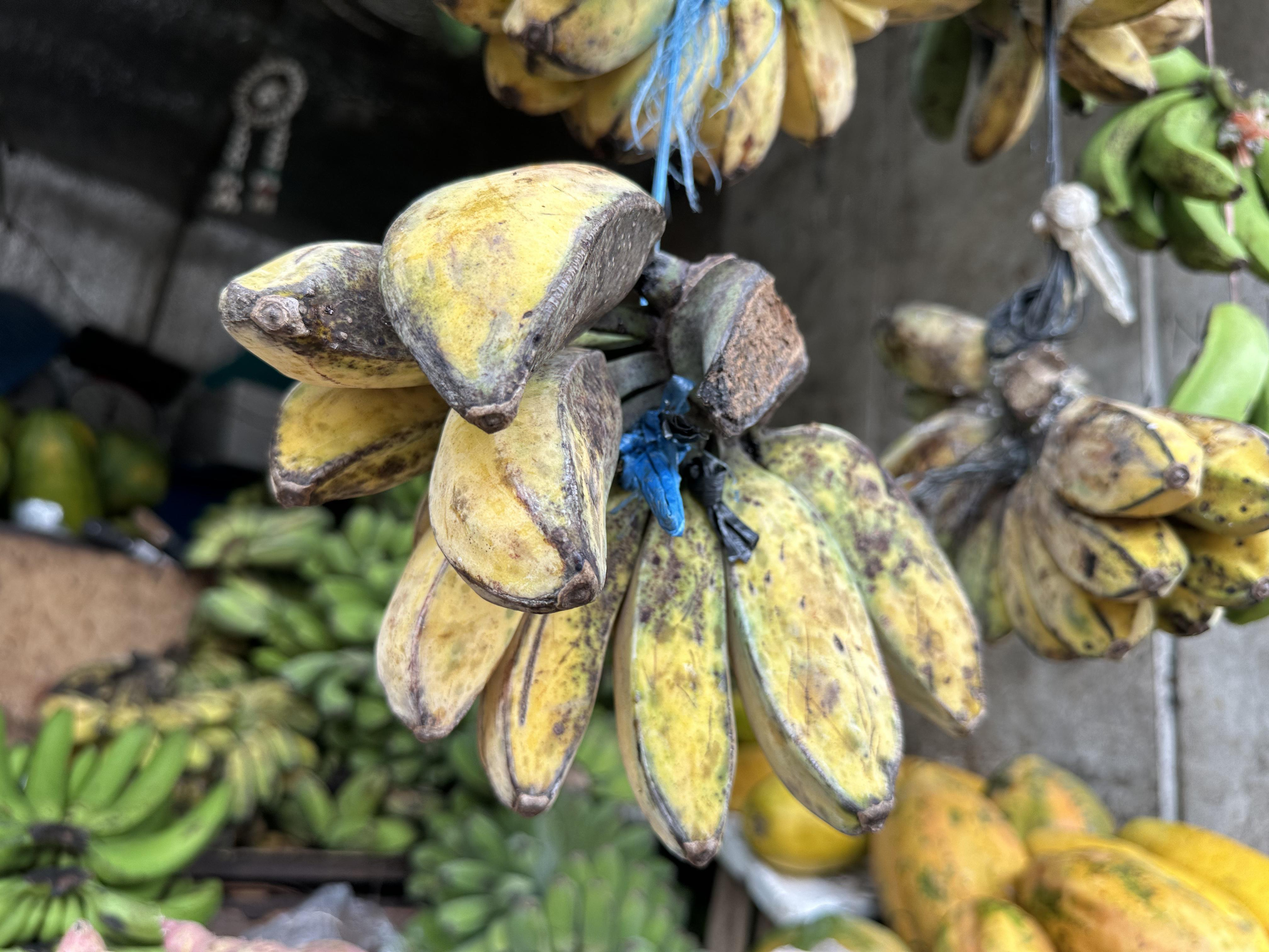underripe: (214, 162, 990, 870), (947, 395, 1269, 663)
